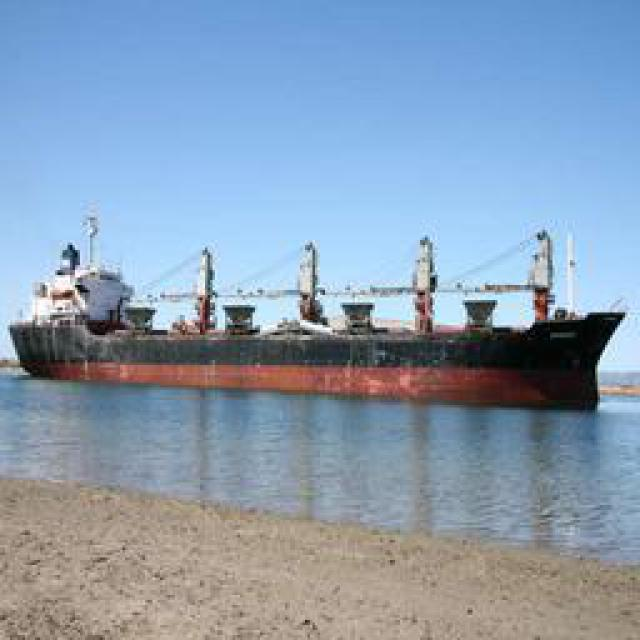Ship: (1, 219, 640, 403)
